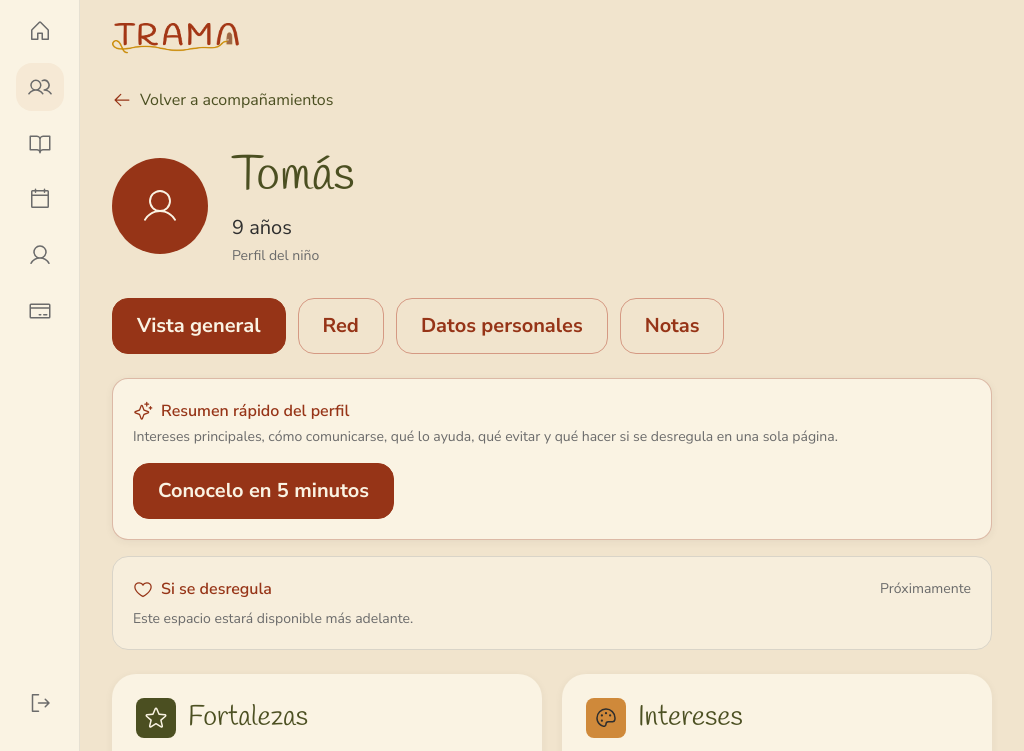
Test case: Conocelo en 5 minutos (Tarea 2.8) › permite abrir "Conocelo en 5 minutos" en 1 toque desde la portada y muestra las 5 secciones con hasta 3 intereses
The width and height of the screenshot is (1024, 751).
Click the link "Conocelo en 5 minutos" at (264, 491), box [133,463,394,519]
(page scrolled)
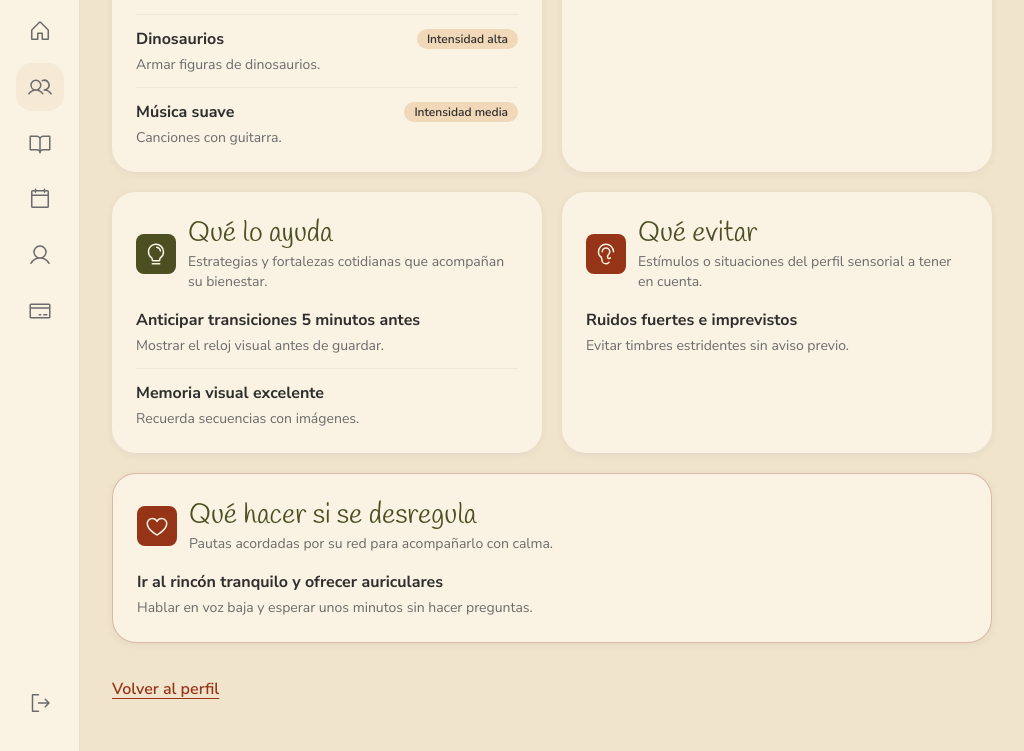
Result: the heading "Dinosaurios" is shown at [136,27,224,51]
Result: the heading "Música suave" is shown at [136,100,234,124]
Result: the heading "Anticipar transiciones 5 minutos antes" is shown at [136,308,420,332]
